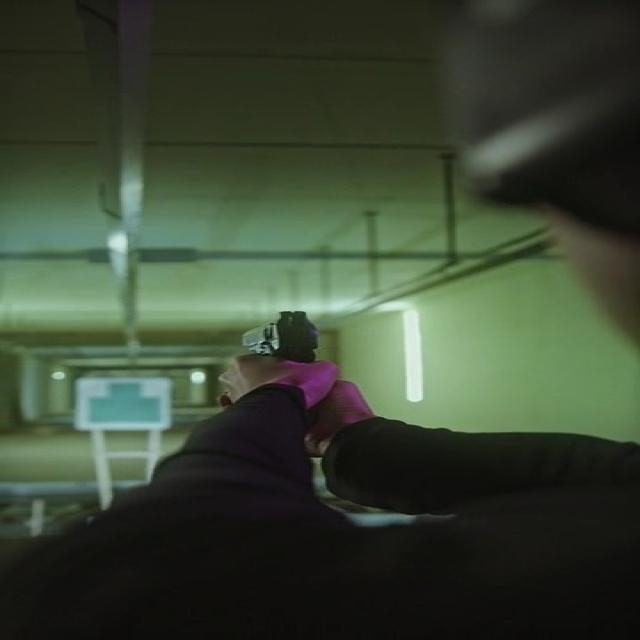Gun_Holder: (184, 303, 444, 448)
